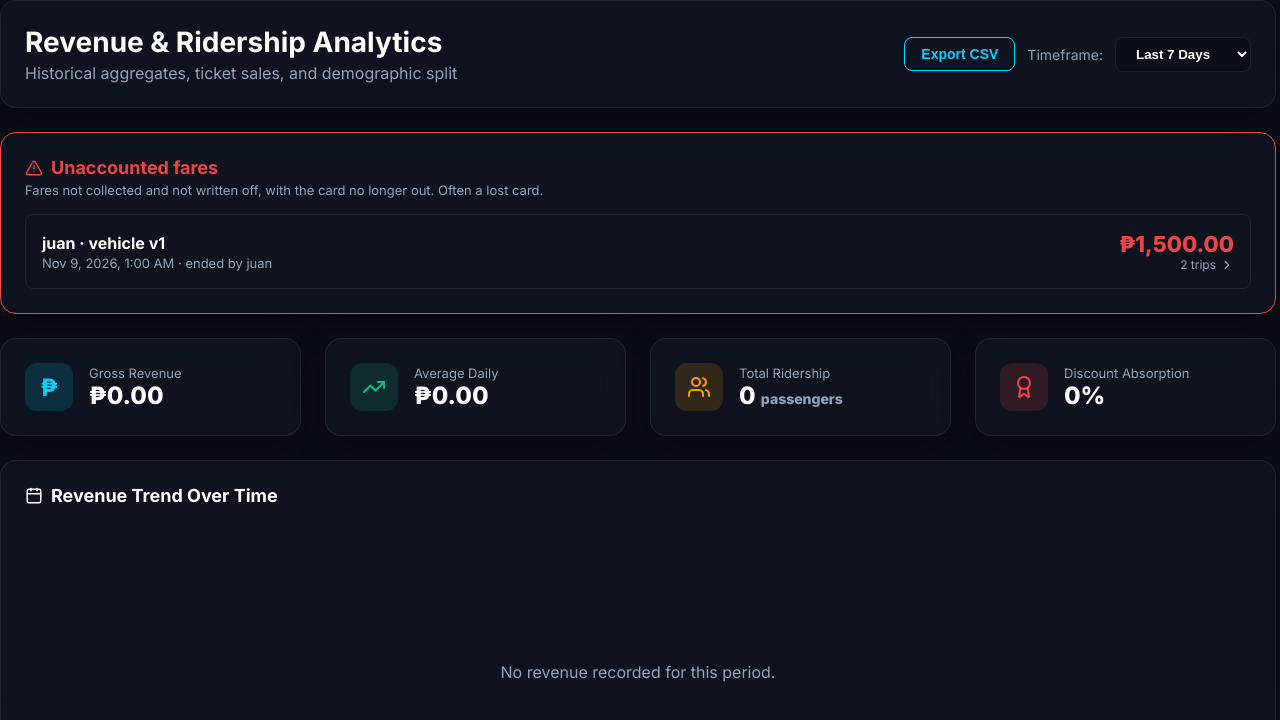
AnalyticsHome unaccounted fares › warns the unaccounted amount per shift and links each trip to the audit log
This screenshot has width=1280, height=720.
Check: the heading "Unaccounted fares" is shown, box left=25, top=157, right=218, bottom=178
Check: the text "₱1,500.00" is shown, box left=1119, top=231, right=1234, bottom=257
// Opening the shift reveals the trips behind the amount, each linked to a filtered audit log.
Click the text "2 trips": (1207, 264) left=1180, top=257, right=1234, bottom=272
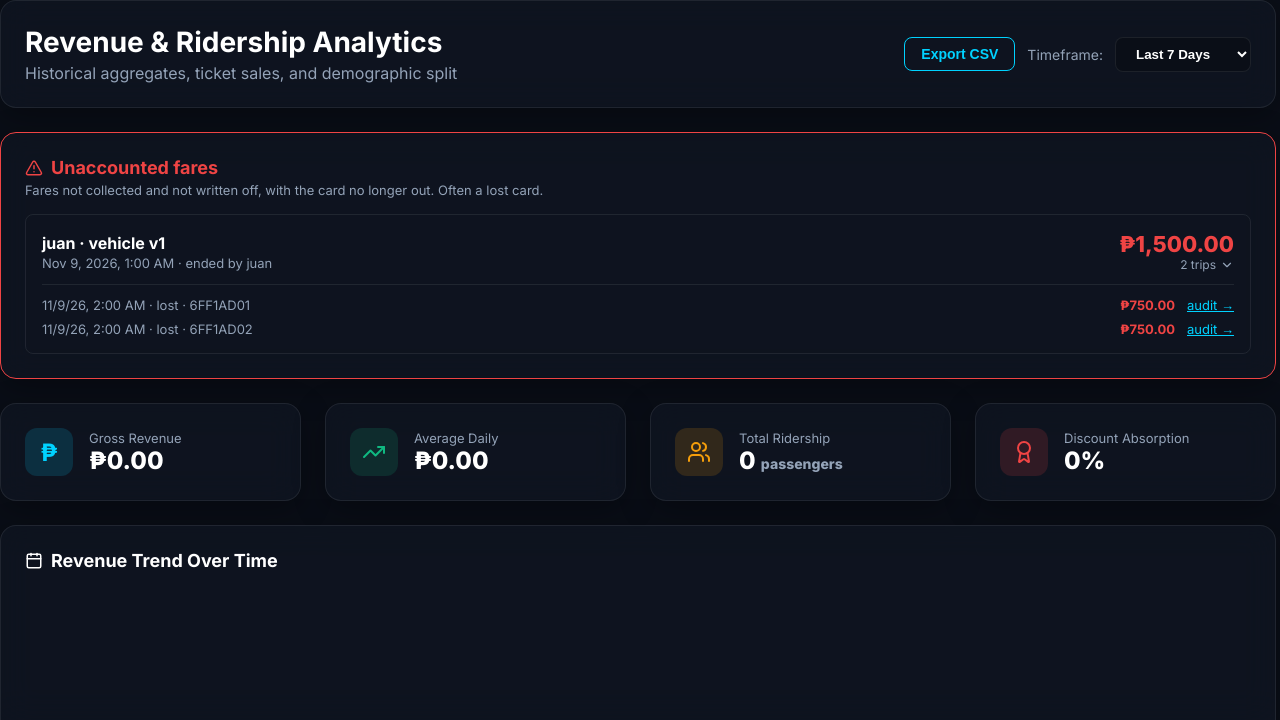
Check: the number of links "audit →" is 2, box left=1187, top=297, right=1234, bottom=313; left=1187, top=321, right=1234, bottom=337
